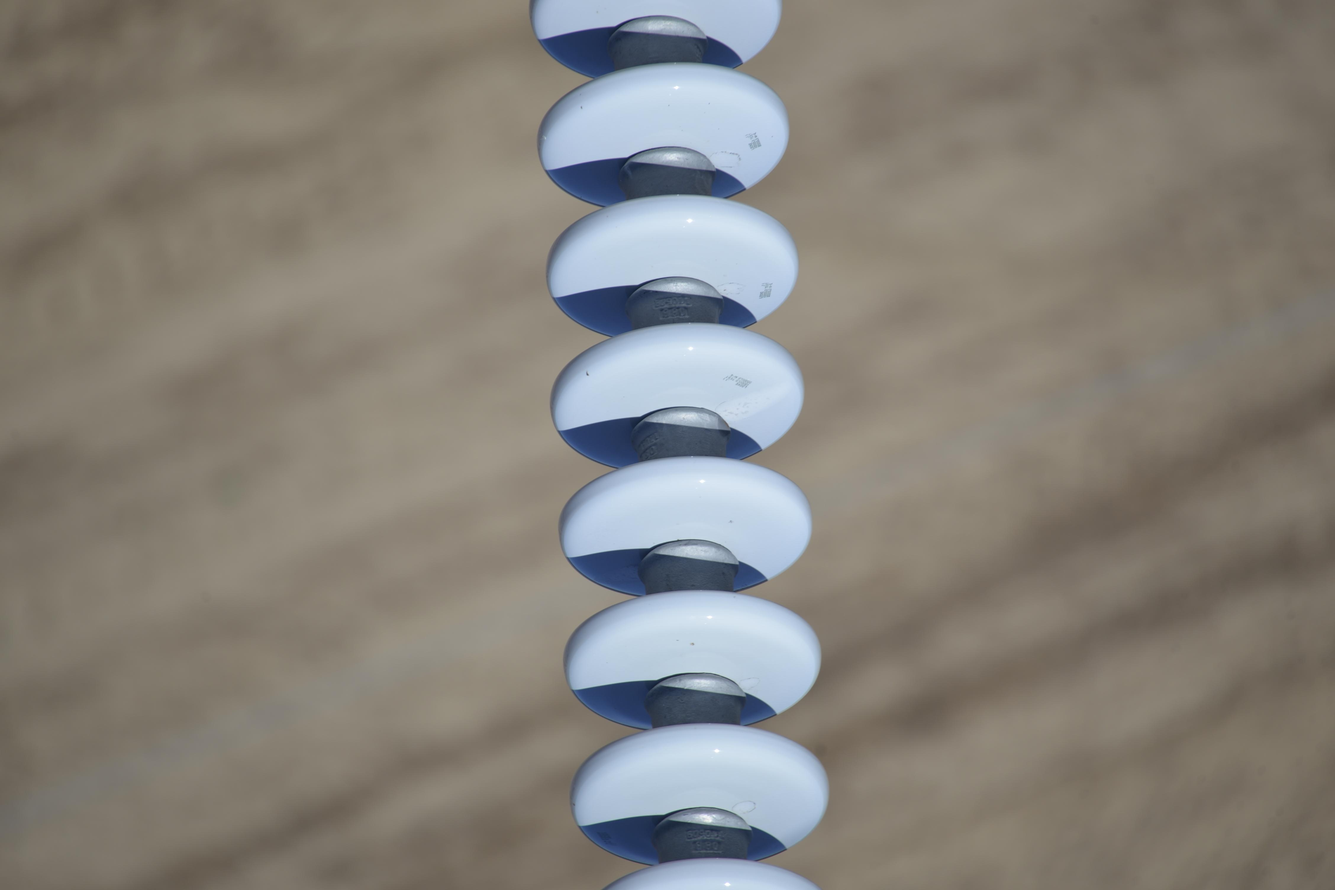Flashover: (713, 375, 797, 430)
insulator: (525, 0, 826, 890)
